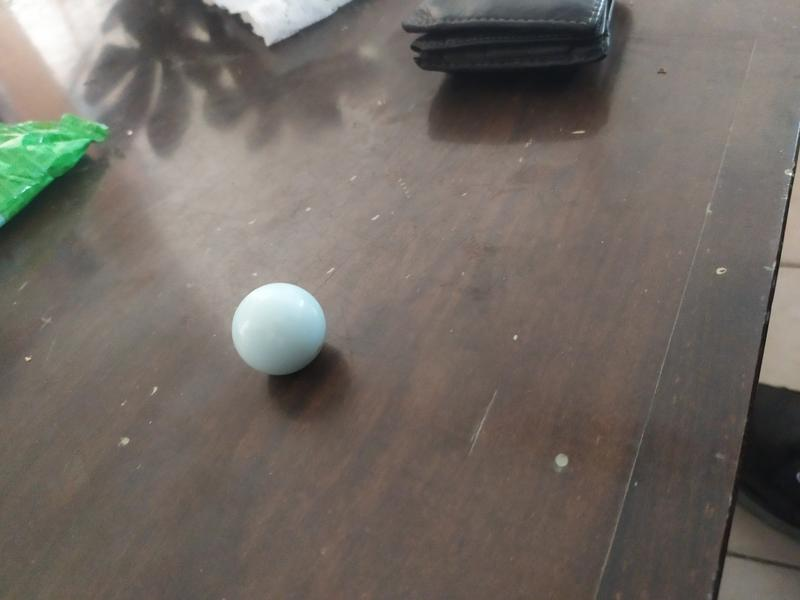Warning: (229, 280, 330, 379)
